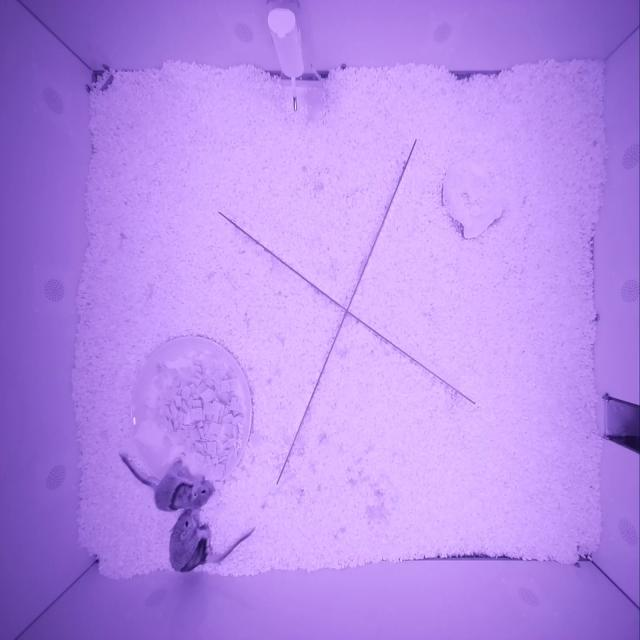adult_back: (168, 508, 207, 573)
adult_front: (154, 474, 210, 511)
